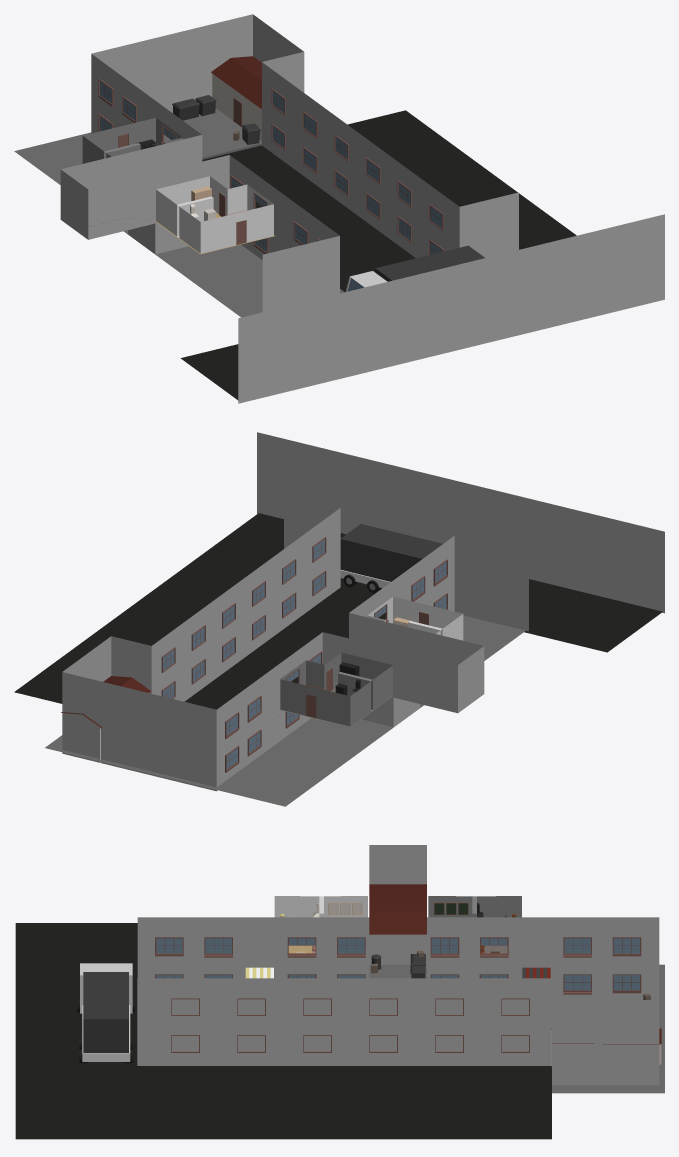
File: Samouczek.fbx
3 views of the same model, one above another, from view 1: azimuth 30°, elevation 25°; view 2: azimuth 150°, elevation 25°; view 3: azimuth 270°, elevation 25° (orthographic). The views are drawn at different scales.
Parts seen in each view (by area): view 1: Plane.007, Plane.004, Plane.003, Cube.005, Cube.023, Plane.008, Cube.012, Cube.027, Cube.024, Cube.016; view 2: Plane.007, Plane.004, Plane.003, Cube.012, Cube.027, Cube.023, Cube.005, Cube.022, Cube.016; view 3: Plane.007, Plane.004, Cube.027, Plane.003, Plane.002, Cube.012, Cube.005, Cube.023, Cube.010, Cube.016, Cube.022, Cube.013 (+2 smaller).
Part boxes in pixels (x1,y1,x2,y2): Plane.007: (91,14,664,403); Plane.004: (14,108,576,400); Plane.003: (60,135,229,254); Cube.005: (156,176,273,253); Cube.023: (271,88,443,254); Plane.008: (211,56,261,141); Cube.012: (82,118,182,163); Cube.027: (345,245,484,291); Cube.024: (172,95,260,144); Cube.016: (122,96,308,245); Plane.007: (62,432,664,791); Plane.004: (14,513,662,806); Plane.003: (322,613,484,726); Cube.012: (280,652,392,726); Cube.027: (340,524,442,587); Cube.023: (161,537,326,698); Cube.005: (367,596,463,640); Cube.022: (225,559,447,738); Cube.016: (247,576,425,722); Plane.007: (137,917,659,1085); Plane.004: (15,923,664,1139); Cube.027: (80,963,132,1061); Plane.003: (369,845,426,964); Plane.002: (369,884,426,934); Cube.012: (428,896,521,917); Cube.005: (274,896,367,917); Cube.023: (171,998,529,1052); Cube.010: (337,937,459,957); Cube.016: (204,937,591,957); Cube.022: (155,937,641,956); Cube.013: (287,937,508,957).
Bounding box in the file's own units: 3634 × 4584 × 695.
